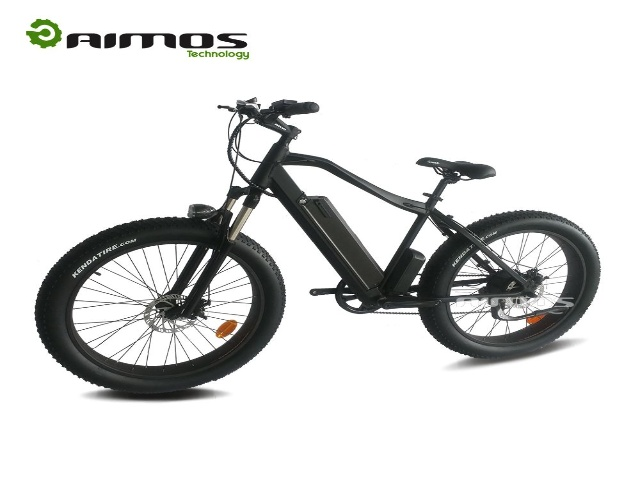bike: (36, 87, 606, 432)
